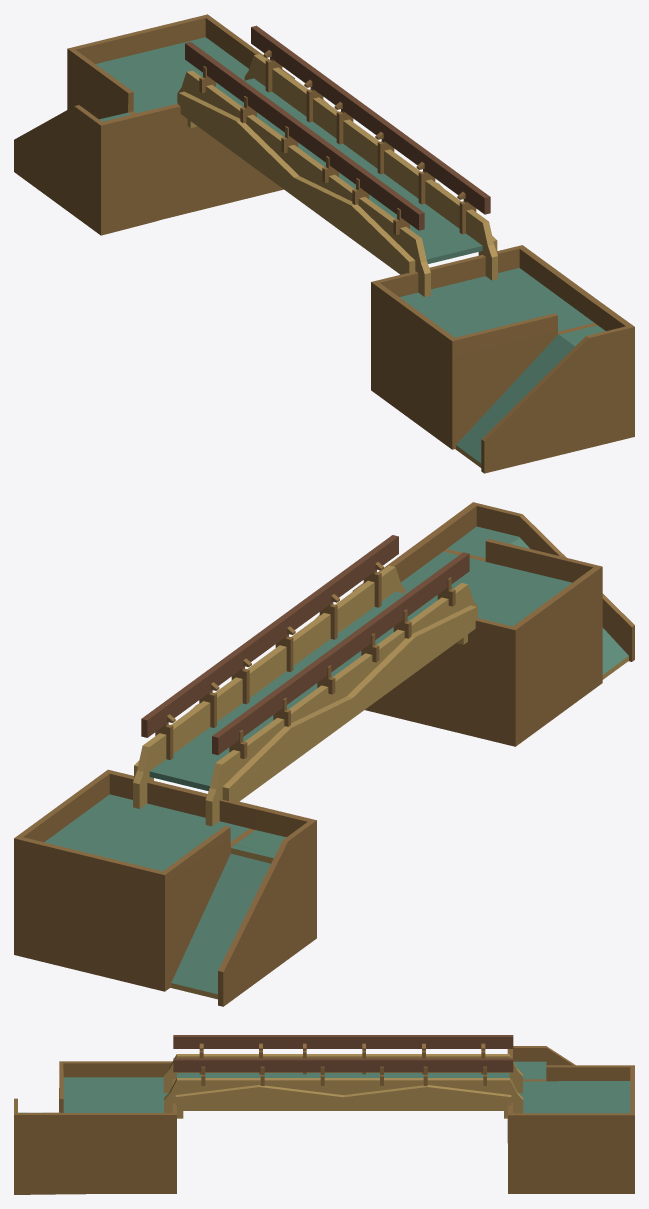
File: Bridge Piece Final Export.fbx
3 renders of one model, top to bottom at view 1: azimuth 30°, elevation 25°; view 2: azimuth 150°, elevation 25°; view 3: azimuth 270°, elevation 25°, orthographic. The views are drawn at different scales.
Parts seen in each view (by area): view 1: pCube3 (×2), bridgepart:bridgeside (×2), bridgepart:pCube14 (×2), bridgepart:bridgeside1, bridgepart:pCube1, stair; view 2: pCube3 (×2), bridgepart:bridgeside (×2), bridgepart:pCube14 (×2), bridgepart:bridgeside1, stair (×2), bridgepart:pCube1; view 3: pCube3 (×2), bridgepart:pCube14 (×2), bridgepart:bridgeside1, bridgepart:bridgeside (×2), bridgepart:pCube1.
Part boxes in pixels (x1,y1,x2,y2): pCube3 (×2): [14, 14, 634, 473]; bridgepart:bridgeside (×2): [177, 54, 497, 296]; bridgepart:pCube14 (×2): [185, 25, 490, 230]; bridgepart:bridgeside1: [178, 91, 415, 274]; bridgepart:pCube1: [216, 78, 482, 263]; stair: [455, 334, 574, 467]; pCube3 (×2): [14, 502, 634, 1006]; bridgepart:bridgeside (×2): [133, 565, 477, 826]; bridgepart:pCube14 (×2): [141, 535, 469, 754]; bridgepart:bridgeside1: [222, 605, 476, 801]; stair (×2): [170, 537, 628, 999]; bridgepart:pCube1: [149, 591, 435, 791]; pCube3 (×2): [14, 1046, 634, 1194]; bridgepart:pCube14 (×2): [173, 1035, 513, 1072]; bridgepart:bridgeside1: [175, 1085, 511, 1110]; bridgepart:bridgeside (×2): [163, 1054, 523, 1118]; bridgepart:pCube1: [177, 1073, 509, 1077].
Bounding box in the file's own units: 12.44 × 10.29 × 47.36.
